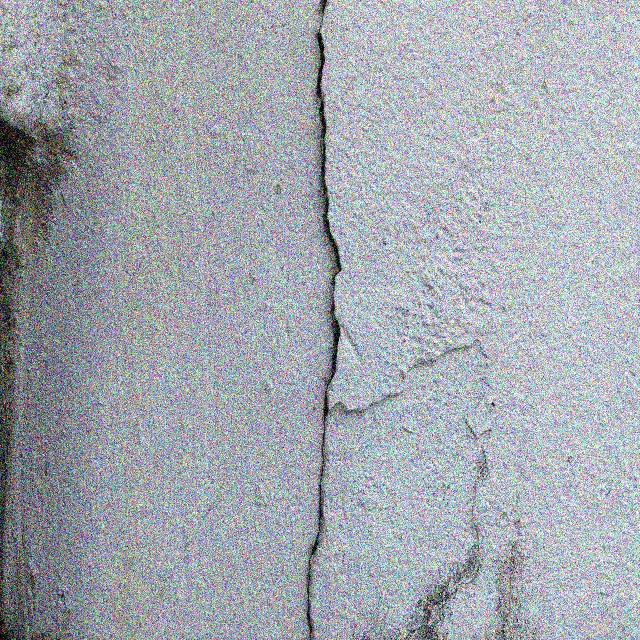SurfaceCrack: (260, 0, 400, 640), (0, 1, 100, 639)
